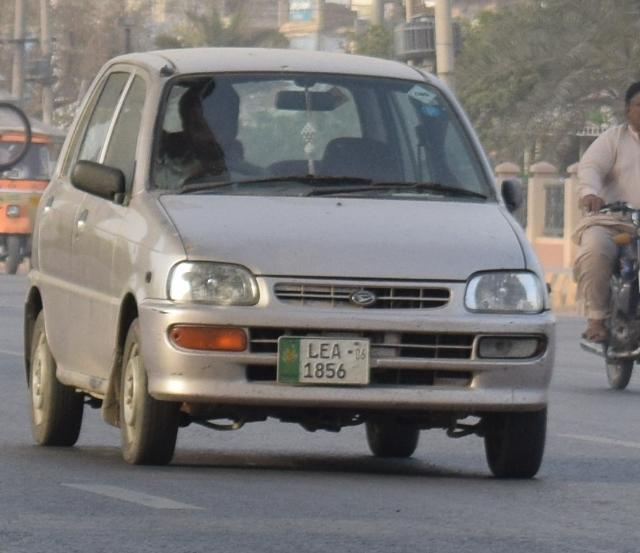plate: (278, 333, 370, 387)
